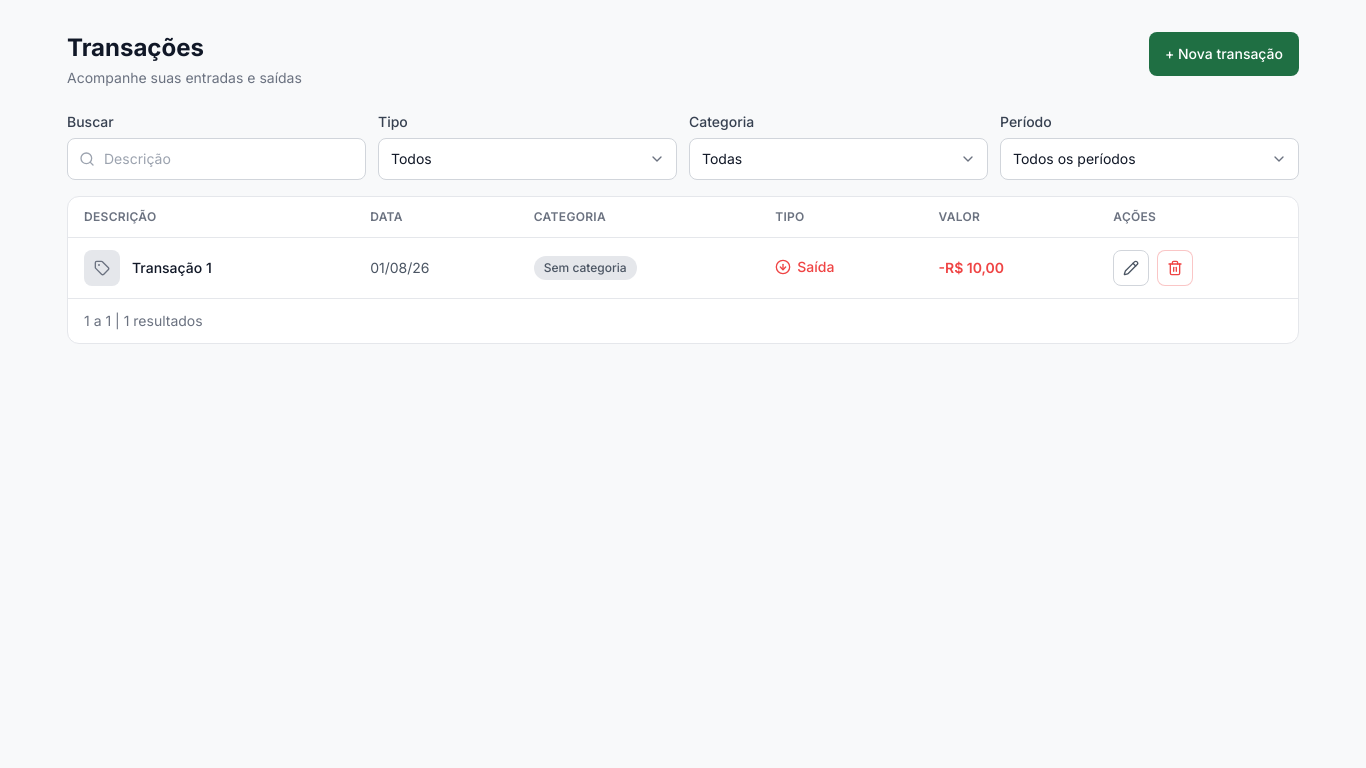
Scenario: TransactionsPage › opens a fresh form after an edit was cancelled
Expected: the text "Transação 1" is shown, [132,258,212,278]
Click the button named "Editar Transação 1": [1131, 268] box [1113,250,1149,286]
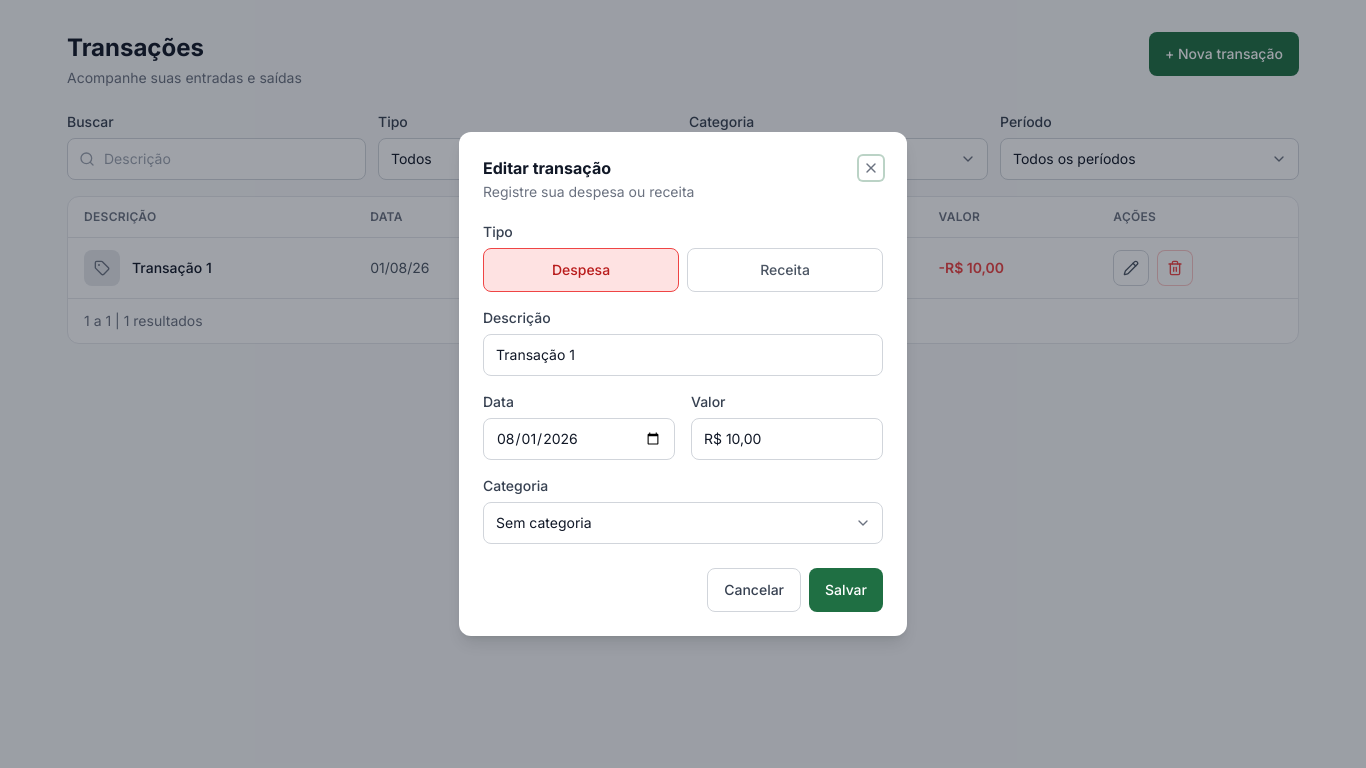
Result: the heading "Editar transação" is shown at [483,158,611,178]
Click the button "Cancelar": [754, 590] box [707,568,801,612]
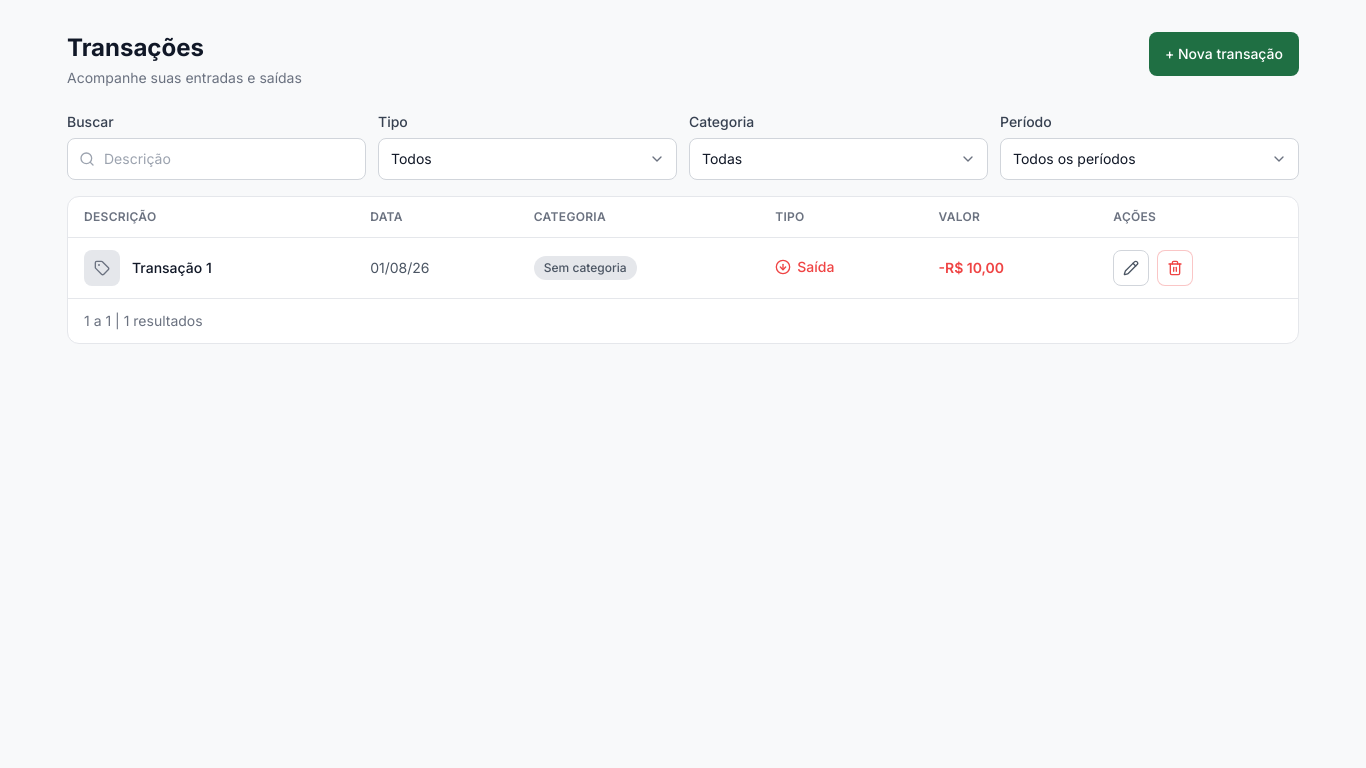
Click the button "+ Nova transação": [1224, 54] box [1149,32,1299,76]
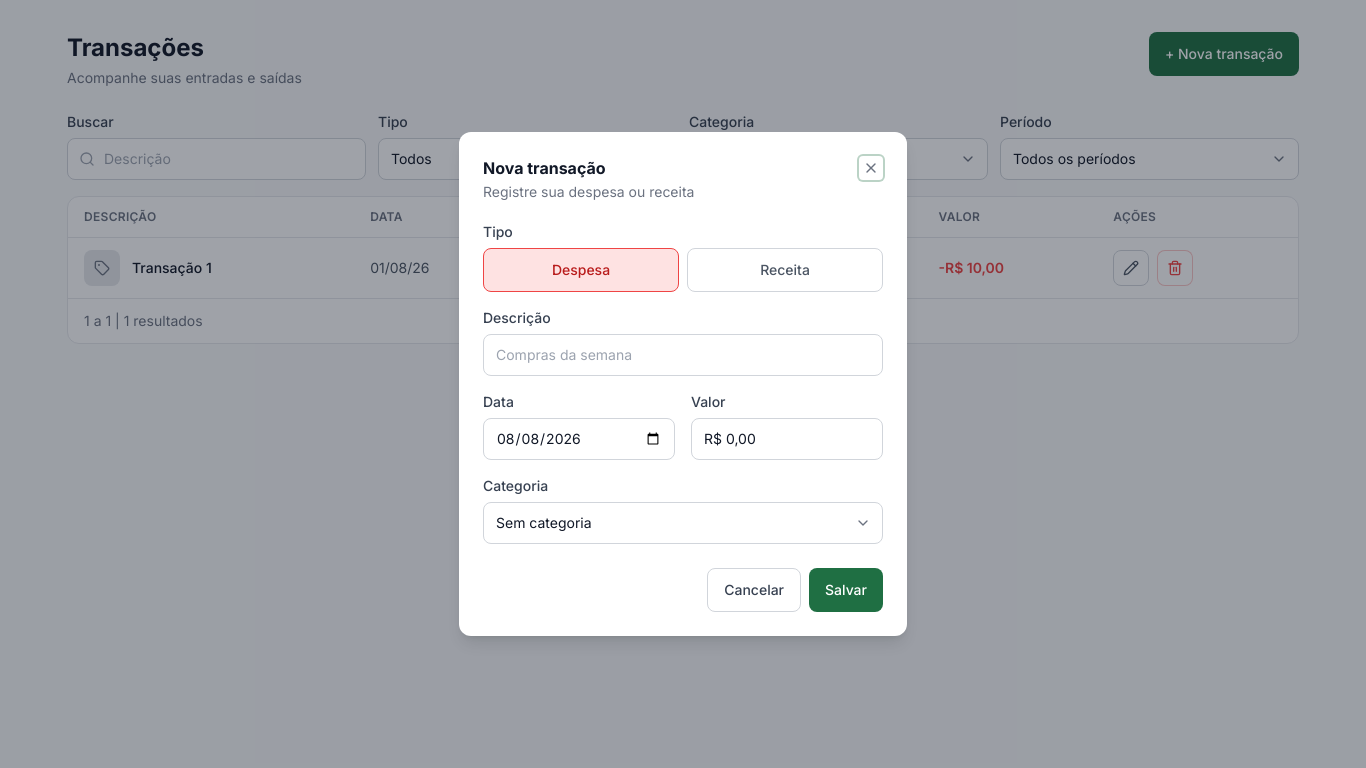
Result: the heading "Nova transação" is shown at [483,158,606,178]
Result: the field labelled "Descrição" is empty at [483,334,883,376]
